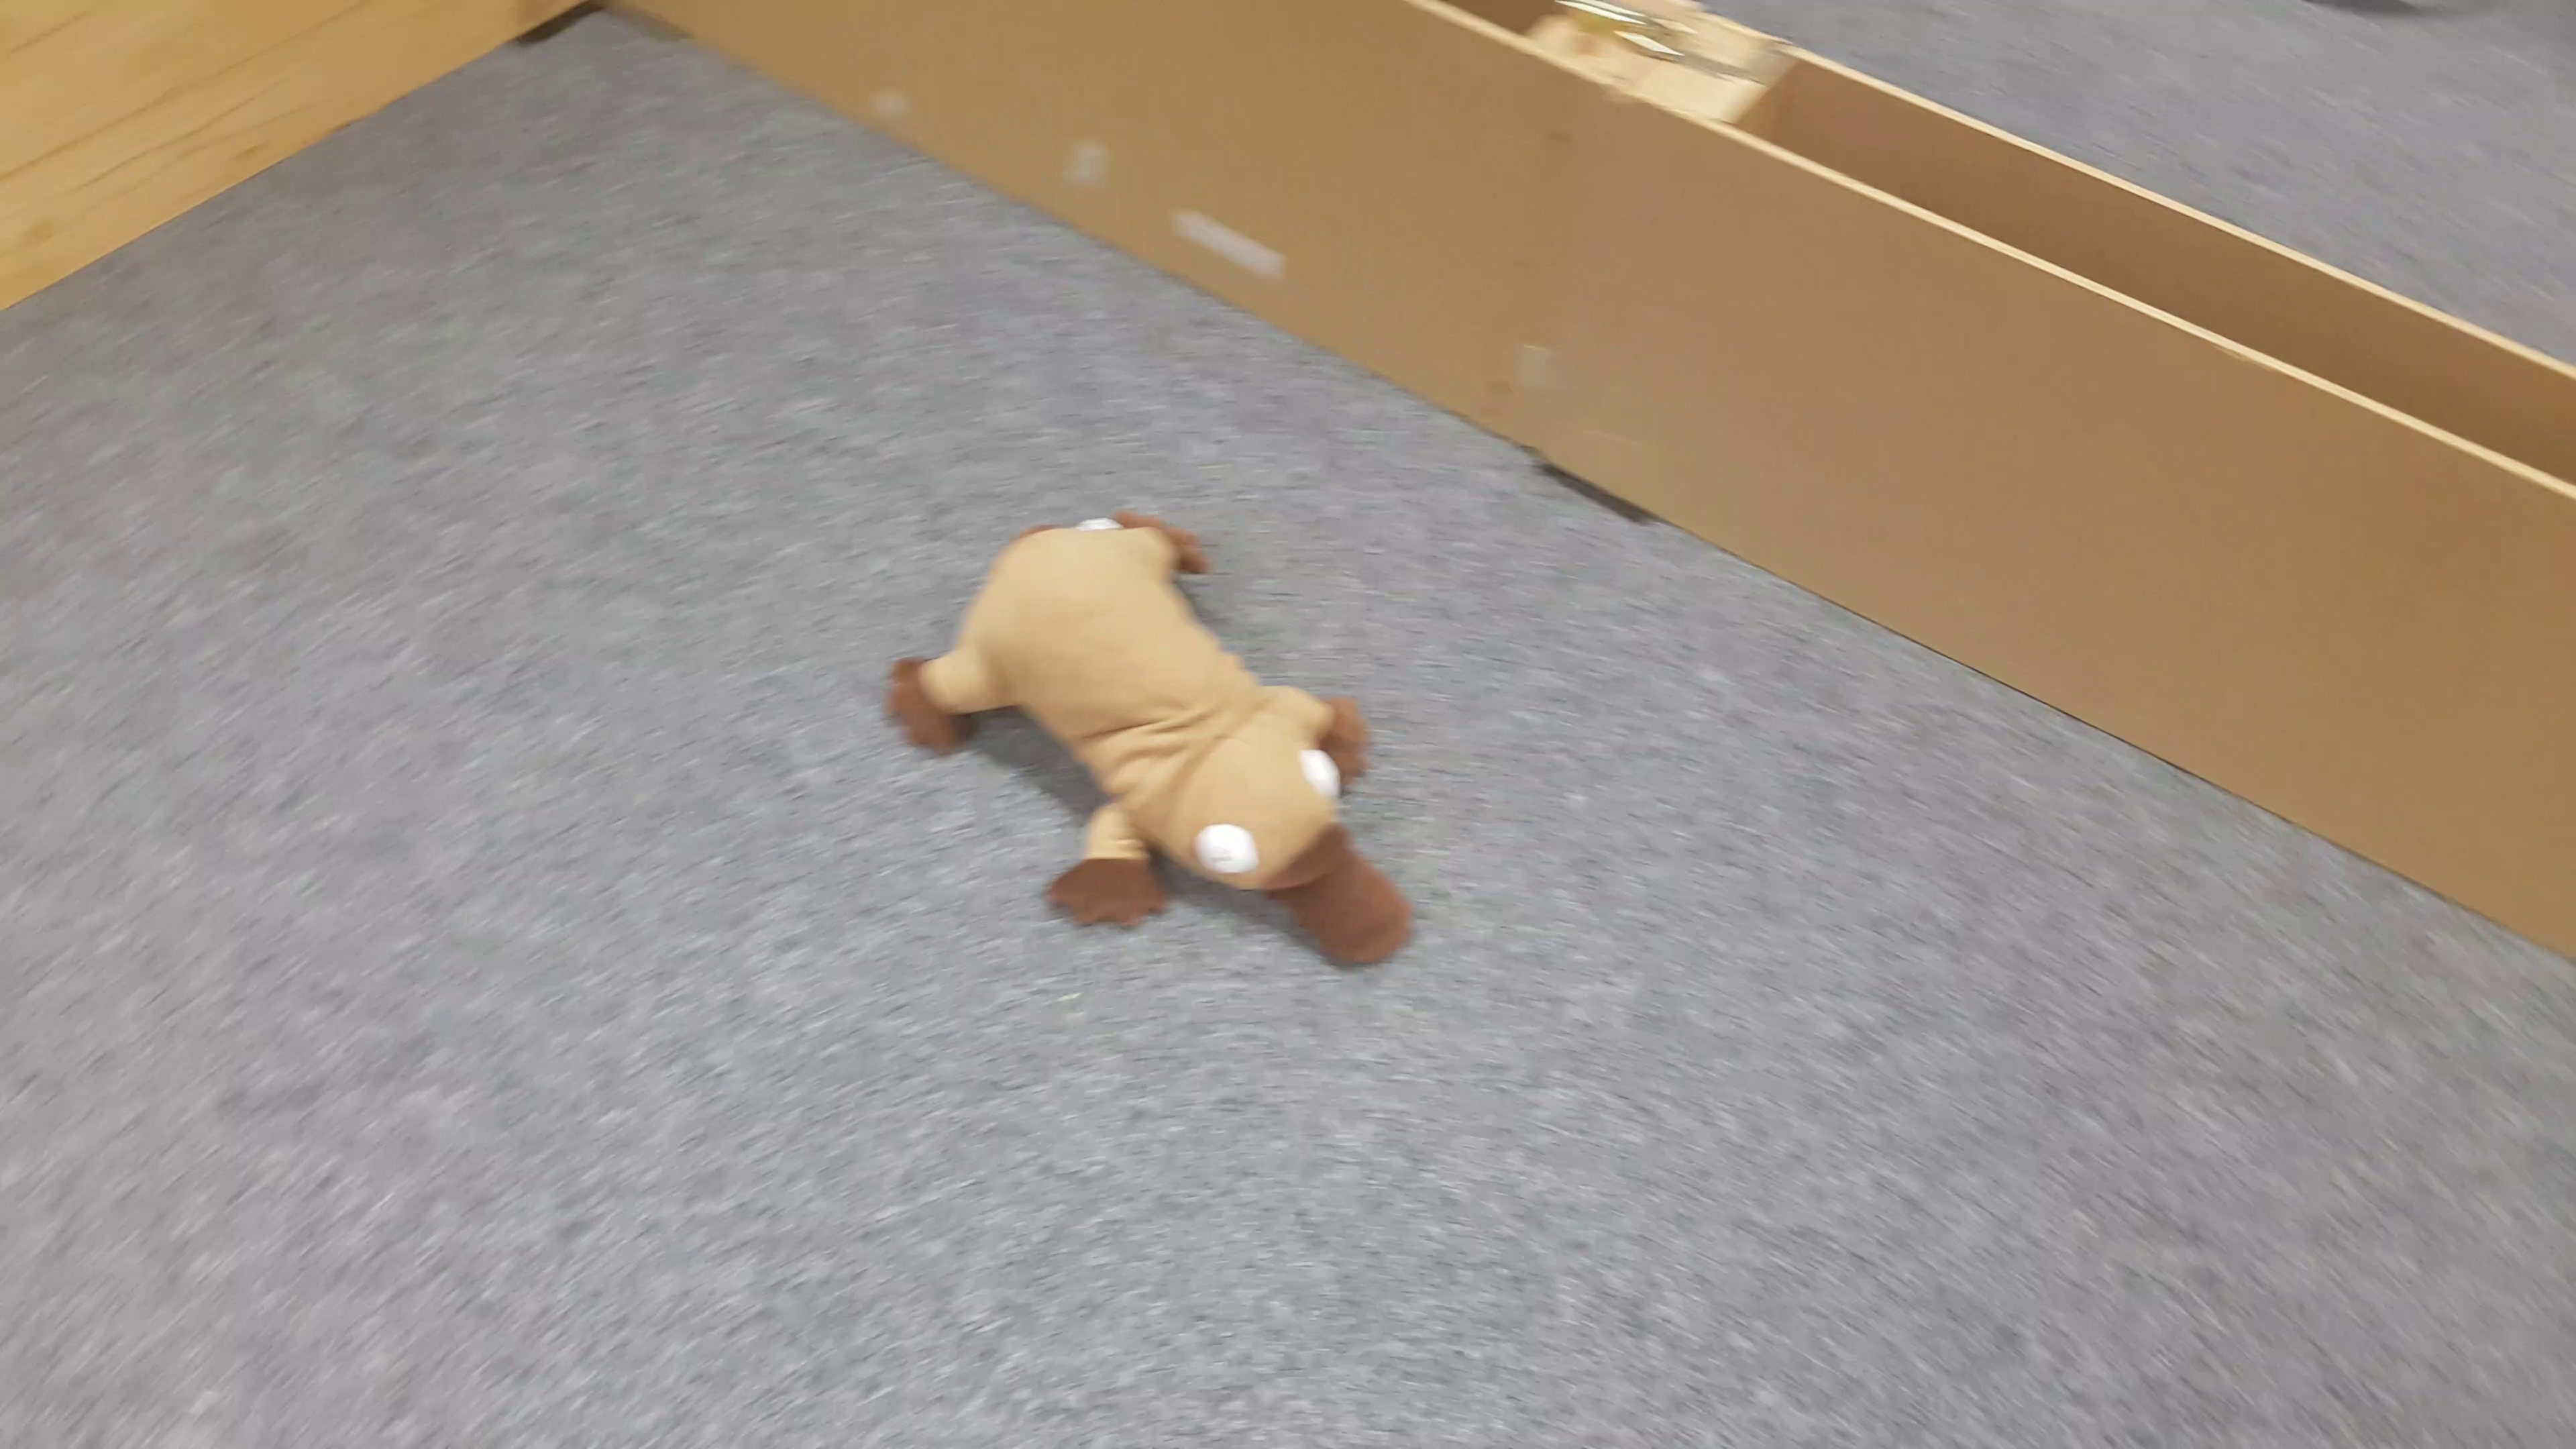grasp: (904, 502, 1410, 994)
